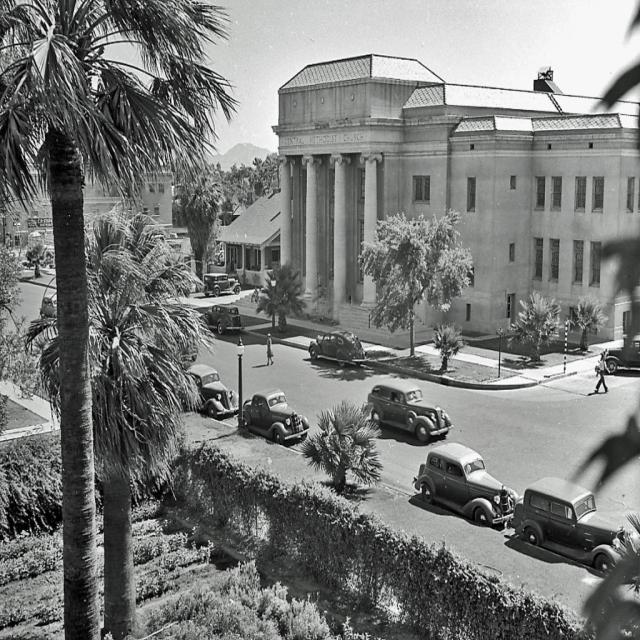car: (302, 328, 369, 367)
